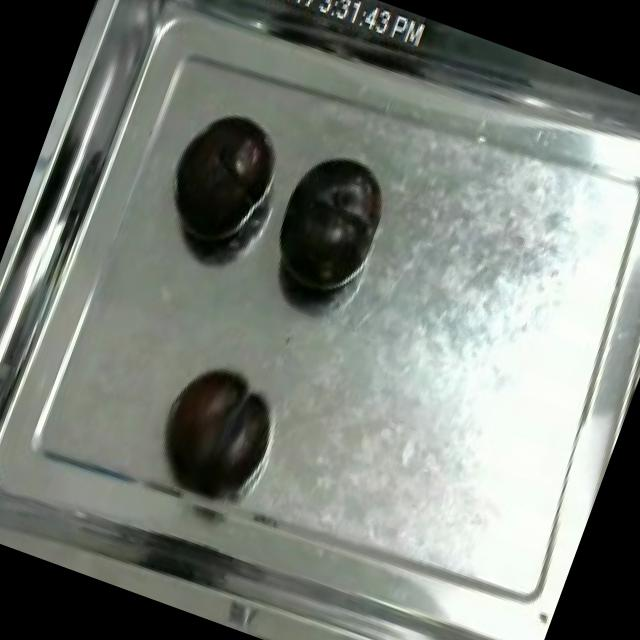Fruit: (256, 138, 400, 314), (150, 100, 288, 262), (148, 354, 276, 498)
